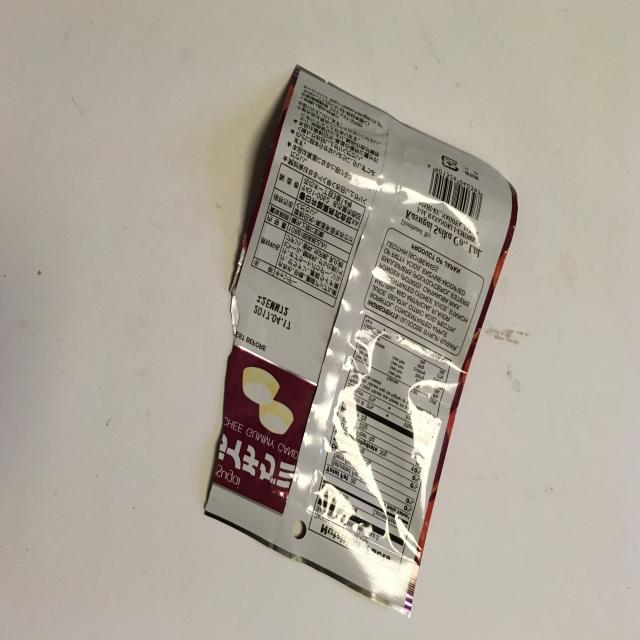plastic: (203, 63, 519, 618)
